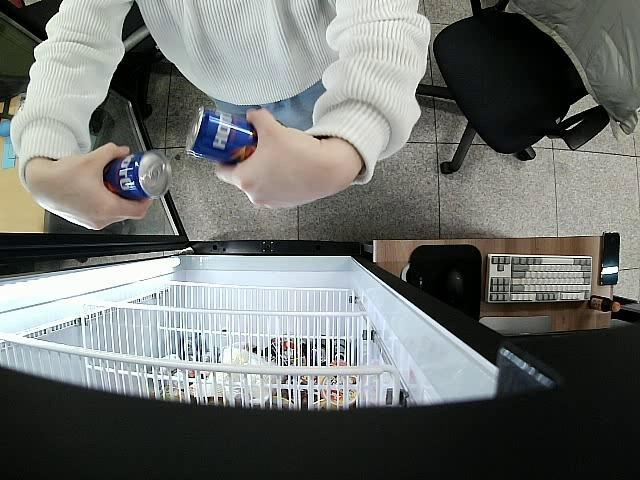16_hot6: (183, 108, 260, 166), (99, 149, 175, 202)
